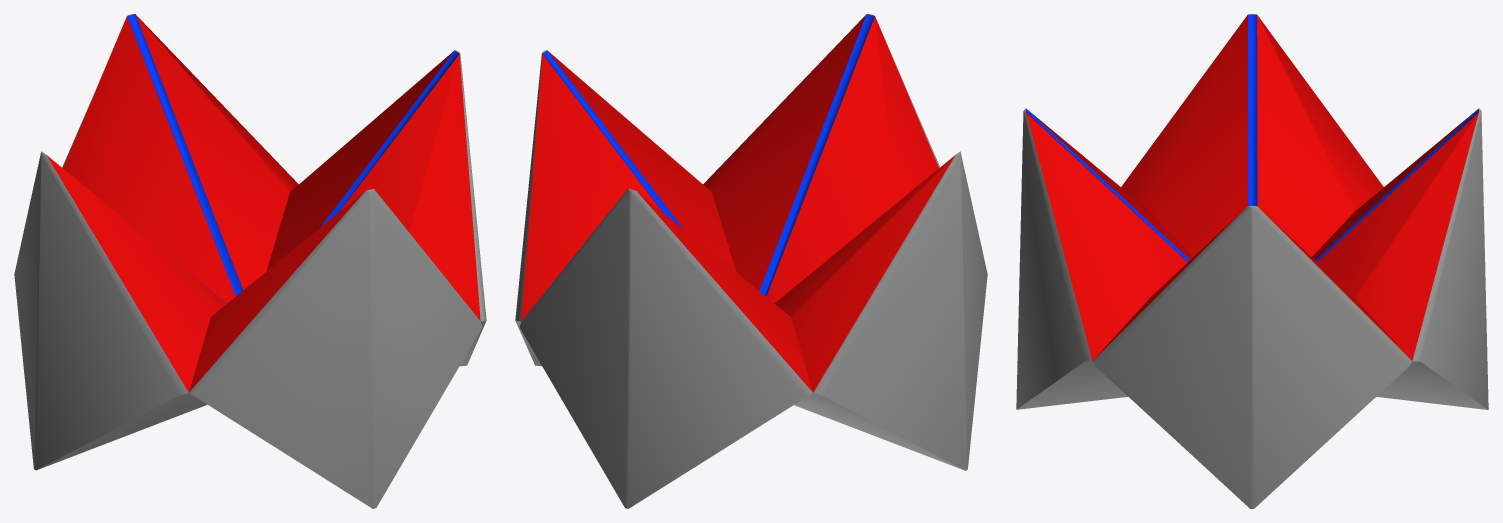
The model's file is Prop_Skypad_PaperFortune.FBX.
3 views of the same model, side by side, from view 1: azimuth 30°, elevation 25°; view 2: azimuth 150°, elevation 25°; view 3: azimuth 270°, elevation 25° (orthographic). The views are drawn at different scales.
Parts seen in each view (by area): view 1: Object004; view 2: Object004; view 3: Object004.
Boxes of the visible parts, x1,y1,x2,y2 form: Object004: [14, 14, 486, 508]; Object004: [515, 14, 987, 508]; Object004: [1016, 14, 1488, 508].
Bounding box in the file's own units: 17.62 × 12.3 × 17.62.
